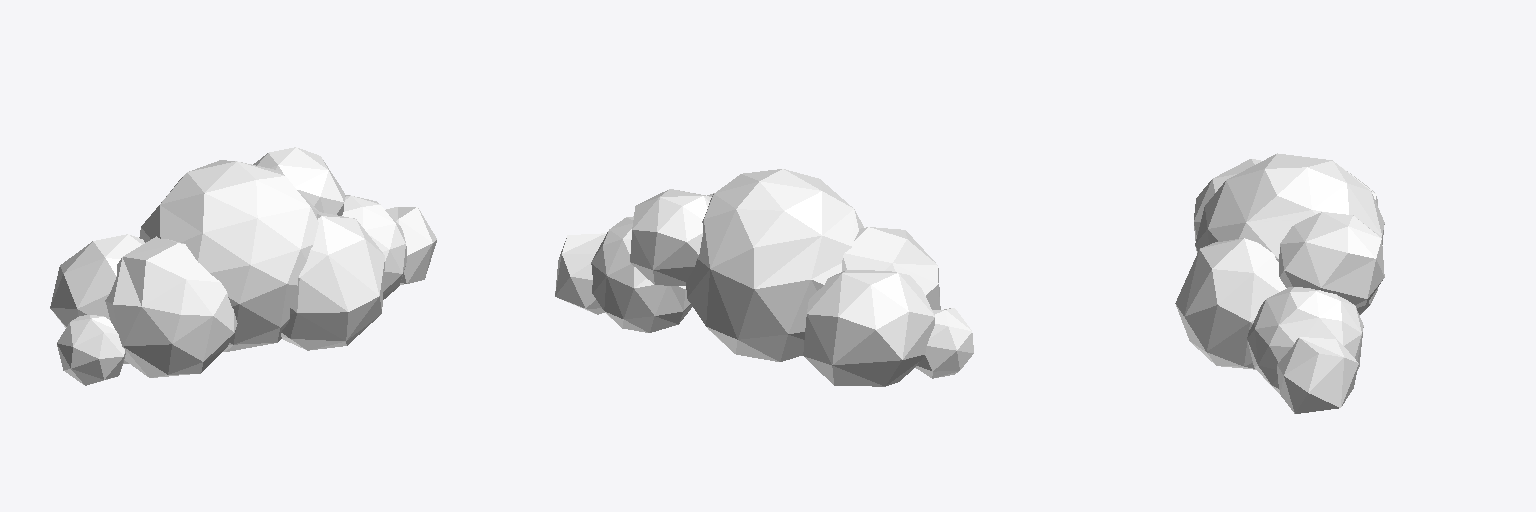
The model's file is cloud.obj.
The picture shows the model from 3 angles: view 1: azimuth 30°, elevation 25°; view 2: azimuth 150°, elevation 25°; view 3: azimuth 270°, elevation 25°; orthographic projection.
Visible parts, largest first — view 1: Object_2; view 2: Object_2; view 3: Object_2.
Part boxes in pixels (left/top/right/bottom): Object_2: left=50, top=147, right=436, bottom=385; Object_2: left=555, top=169, right=973, bottom=386; Object_2: left=1175, top=153, right=1384, bottom=413.
Size of the model in its own units: 58.65 by 24.67 by 27.2.